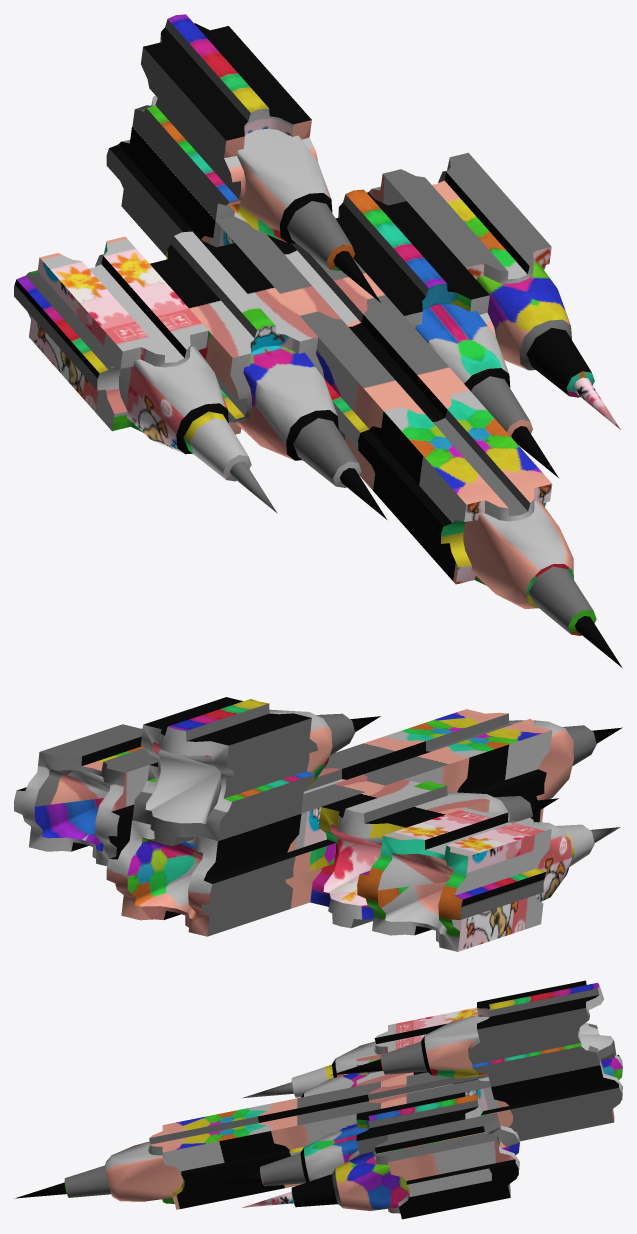
Rendered from ref_gtplanepen.fbx.
The picture shows the model from 3 angles, top to bottom: view 1: azimuth 30°, elevation 25°; view 2: azimuth 150°, elevation 25°; view 3: azimuth 270°, elevation 25°; orthographic projection. The views are drawn at different scales.
Visible parts, largest first — view 1: ref_gtplanepen; view 2: ref_gtplanepen; view 3: ref_gtplanepen.
Boxes of the visible parts, x1,y1,x2,y2 form: ref_gtplanepen: [14, 14, 622, 667]; ref_gtplanepen: [14, 697, 622, 951]; ref_gtplanepen: [14, 980, 622, 1219].
Bounding box in the file's own units: 55.4 × 38.69 × 100.
